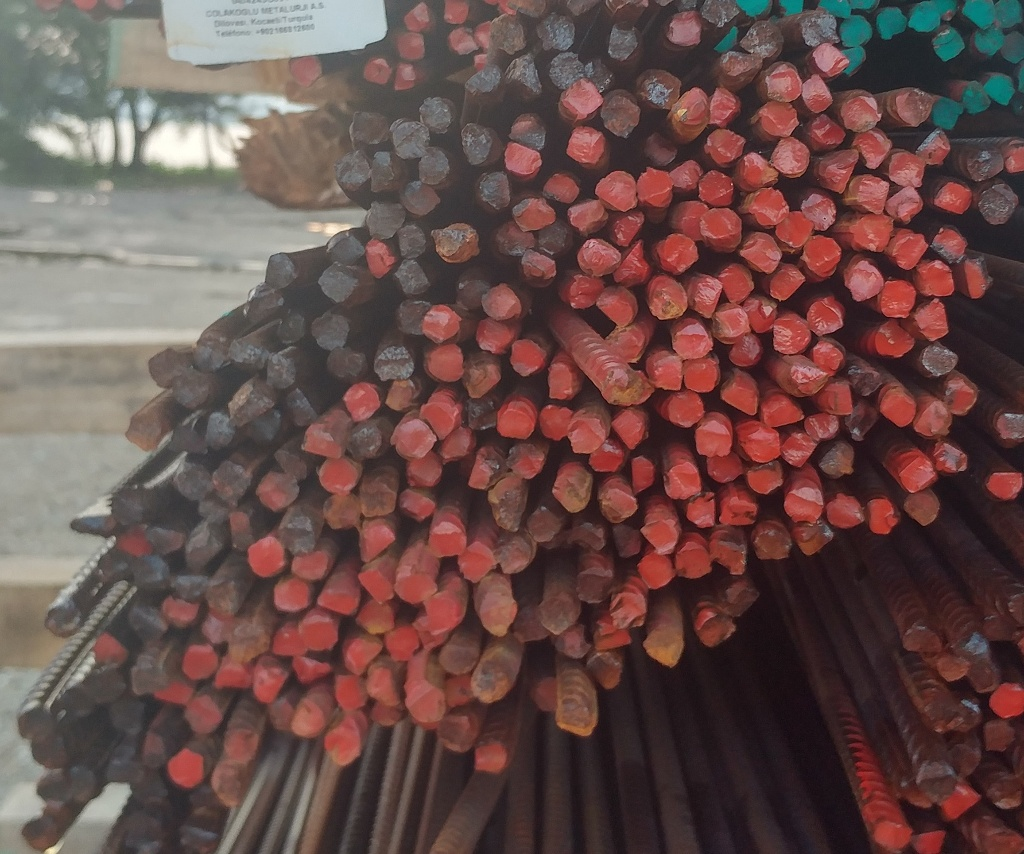dipstick: (641, 272, 695, 322), (839, 252, 887, 306), (224, 378, 275, 428), (802, 146, 864, 187), (487, 475, 532, 530), (793, 185, 842, 234), (435, 221, 485, 269), (846, 172, 898, 218), (785, 8, 843, 48), (732, 418, 782, 464), (254, 470, 306, 514), (559, 77, 612, 120), (574, 561, 621, 609), (819, 438, 865, 487), (845, 211, 894, 257), (212, 758, 257, 808), (636, 61, 681, 111), (321, 712, 363, 765), (601, 364, 658, 403), (600, 85, 641, 139), (716, 367, 763, 414), (758, 385, 807, 430), (486, 216, 538, 258), (684, 271, 732, 316), (765, 260, 814, 304), (800, 231, 843, 281), (669, 86, 711, 137), (704, 207, 747, 256), (706, 528, 748, 578), (823, 487, 865, 537), (955, 249, 996, 300), (393, 417, 439, 462), (387, 114, 434, 158), (534, 399, 578, 446), (351, 560, 399, 603), (659, 462, 707, 505), (664, 388, 707, 436), (672, 313, 715, 361), (738, 19, 787, 61), (977, 179, 1017, 230), (750, 98, 801, 138), (457, 121, 501, 167), (882, 145, 929, 188), (912, 255, 954, 303), (472, 170, 514, 218), (615, 237, 655, 287), (493, 534, 538, 578), (656, 231, 700, 276), (564, 410, 607, 456), (886, 225, 928, 272), (289, 693, 330, 741), (889, 84, 930, 132), (311, 312, 360, 352), (323, 347, 373, 386), (961, 141, 1005, 185), (606, 406, 649, 451), (553, 467, 595, 513), (913, 296, 954, 343), (515, 246, 562, 287), (743, 187, 790, 228), (214, 459, 254, 507), (806, 112, 854, 152), (838, 92, 886, 132), (298, 422, 347, 461), (392, 255, 435, 299), (244, 409, 287, 453), (693, 414, 736, 458), (739, 227, 782, 271), (535, 213, 579, 256), (565, 125, 608, 169), (596, 167, 639, 211), (849, 125, 892, 169), (754, 520, 796, 565), (879, 386, 921, 431), (979, 768, 1021, 813), (771, 359, 830, 391), (345, 105, 391, 146), (453, 265, 494, 311), (773, 209, 819, 250), (343, 631, 383, 678), (481, 586, 517, 638), (906, 487, 945, 535), (891, 453, 939, 492), (599, 474, 637, 523), (63, 509, 123, 540), (555, 694, 598, 737), (645, 625, 687, 669), (838, 399, 880, 443), (564, 269, 608, 311), (589, 437, 634, 478), (577, 233, 622, 274), (736, 149, 781, 190), (771, 135, 811, 181), (916, 695, 962, 735), (639, 550, 682, 592), (537, 8, 580, 50), (364, 200, 408, 241), (698, 613, 742, 654), (942, 376, 986, 417), (594, 286, 638, 327), (914, 128, 955, 172), (440, 641, 490, 677), (913, 340, 963, 376), (716, 257, 756, 302), (505, 109, 550, 149), (943, 778, 982, 824), (460, 64, 507, 102), (866, 494, 903, 542), (785, 482, 827, 524), (716, 45, 765, 81), (328, 670, 371, 711), (504, 442, 547, 483), (637, 514, 680, 555), (871, 320, 914, 361), (711, 303, 752, 346), (698, 168, 739, 211), (762, 60, 805, 101), (496, 395, 536, 439), (383, 620, 423, 664), (601, 592, 645, 632), (915, 396, 959, 436), (887, 184, 927, 228), (145, 349, 190, 388), (671, 195, 710, 240), (917, 758, 955, 804), (438, 714, 479, 756), (525, 503, 566, 545), (931, 177, 972, 219), (395, 566, 438, 606), (773, 313, 813, 356), (164, 745, 203, 789), (408, 678, 447, 722), (807, 334, 851, 373), (704, 125, 749, 163), (352, 522, 398, 559), (362, 659, 399, 705), (253, 655, 287, 705), (601, 324, 648, 360), (636, 164, 672, 211), (513, 199, 564, 232), (481, 282, 522, 323), (644, 351, 686, 391), (278, 385, 317, 428), (472, 663, 511, 706), (460, 540, 499, 583), (291, 50, 329, 94), (420, 397, 458, 441), (143, 518, 187, 556), (299, 611, 343, 649), (675, 539, 713, 583), (805, 298, 849, 336), (237, 286, 286, 320), (360, 237, 400, 278), (373, 341, 414, 381), (474, 313, 514, 354), (508, 337, 548, 378), (341, 382, 381, 423), (358, 476, 398, 517), (230, 617, 271, 657), (745, 293, 785, 334), (640, 127, 680, 168), (170, 371, 212, 410), (174, 458, 213, 500), (247, 535, 289, 574), (567, 192, 609, 231), (125, 410, 163, 453), (539, 591, 577, 634), (584, 648, 622, 691), (777, 426, 815, 469), (541, 163, 579, 206), (465, 354, 502, 398), (427, 339, 463, 384), (514, 599, 550, 644), (607, 518, 643, 563), (933, 223, 969, 268), (107, 699, 147, 739), (793, 519, 833, 559), (350, 420, 389, 461), (180, 696, 221, 735), (796, 72, 835, 113), (668, 9, 707, 50), (667, 153, 705, 195), (490, 13, 532, 51), (286, 545, 329, 582), (125, 605, 169, 641), (991, 400, 1024, 448), (810, 41, 854, 77), (900, 619, 944, 655), (185, 640, 220, 685), (271, 574, 311, 613), (568, 517, 607, 557), (270, 618, 308, 659), (816, 376, 854, 417), (879, 278, 917, 319), (420, 95, 457, 137), (711, 81, 744, 128), (130, 659, 173, 695), (130, 557, 174, 592), (82, 669, 126, 704), (318, 582, 362, 617), (351, 598, 395, 633), (744, 458, 788, 493), (500, 141, 544, 176), (51, 686, 90, 725), (465, 448, 504, 487), (263, 252, 301, 292), (189, 330, 227, 370), (440, 426, 478, 466), (225, 339, 271, 372), (320, 265, 361, 302), (321, 492, 362, 529), (683, 490, 720, 531), (682, 356, 724, 392), (317, 458, 361, 492), (471, 741, 515, 775), (847, 361, 886, 399), (606, 207, 645, 245), (386, 376, 422, 417), (506, 56, 542, 97), (871, 816, 913, 851), (184, 527, 218, 570), (990, 674, 1023, 718), (423, 303, 460, 342), (419, 147, 455, 187), (136, 730, 172, 770), (728, 332, 768, 368), (326, 230, 367, 265), (461, 396, 502, 431), (206, 574, 241, 615), (281, 505, 312, 551), (206, 409, 236, 456), (98, 546, 136, 583), (222, 726, 260, 763), (723, 579, 760, 617), (428, 520, 464, 559), (403, 453, 443, 488), (166, 422, 207, 456), (19, 818, 60, 852), (607, 21, 641, 62), (401, 180, 443, 213), (157, 593, 199, 626), (706, 456, 748, 489), (28, 738, 71, 770), (628, 450, 660, 493), (928, 94, 966, 130), (935, 442, 974, 477), (42, 600, 82, 634), (984, 468, 1024, 502), (293, 654, 336, 685), (394, 299, 430, 336), (550, 51, 586, 88), (373, 154, 408, 192), (262, 351, 297, 389), (399, 488, 437, 523), (837, 14, 876, 48), (336, 149, 369, 189), (594, 620, 634, 653), (547, 358, 579, 399), (982, 68, 1014, 109), (274, 447, 310, 483), (199, 612, 236, 647), (109, 488, 147, 522), (265, 699, 303, 733), (396, 221, 431, 257), (554, 624, 589, 660), (722, 492, 758, 527), (929, 26, 964, 62), (422, 594, 459, 628), (804, 409, 842, 442), (584, 54, 617, 92), (964, 660, 1003, 692), (983, 717, 1015, 756), (396, 1, 436, 32), (948, 739, 982, 775), (94, 634, 133, 665), (217, 656, 251, 691), (959, 81, 993, 116), (701, 1, 742, 30), (171, 569, 207, 602), (14, 705, 47, 741), (907, 1, 943, 34), (28, 772, 64, 804), (876, 7, 908, 43), (157, 679, 198, 707), (446, 672, 476, 710), (936, 651, 970, 684), (956, 629, 991, 661), (195, 496, 231, 527), (68, 769, 99, 805), (278, 308, 308, 345), (909, 823, 944, 854), (959, 1, 996, 30), (229, 511, 257, 549), (997, 28, 1024, 67), (445, 24, 477, 56), (973, 23, 1004, 56), (840, 43, 871, 76), (390, 29, 426, 57), (110, 750, 140, 783), (414, 622, 450, 649), (362, 55, 393, 86), (1001, 135, 1024, 176), (532, 679, 556, 713), (395, 58, 419, 91), (443, 1, 471, 27), (994, 1, 1021, 27)
